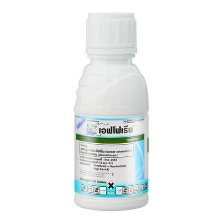insecticide: (70, 7, 151, 213)
